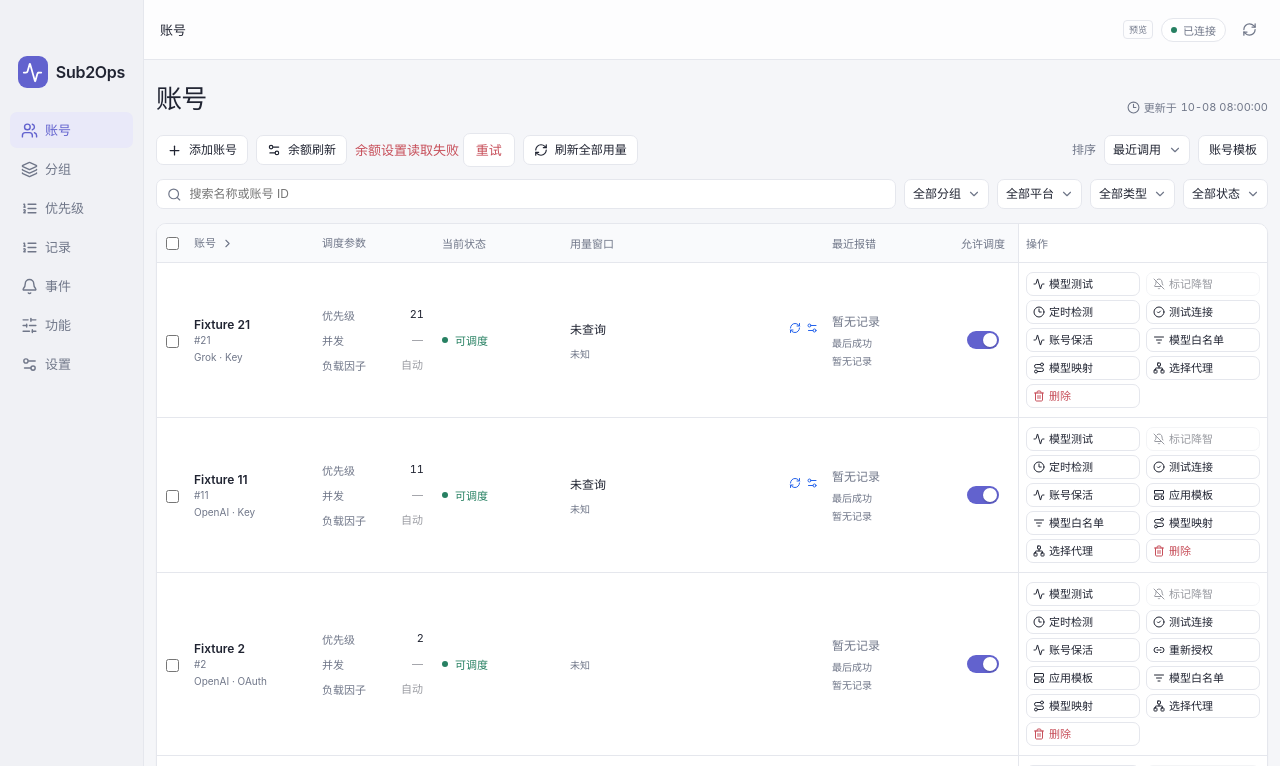
Test: feature settings drafts › saves mutually exclusive recovery modes together without changing the automatic card-use setting
Click the button "功能": click(72, 325) [10,307,133,343]
(page scrolled)
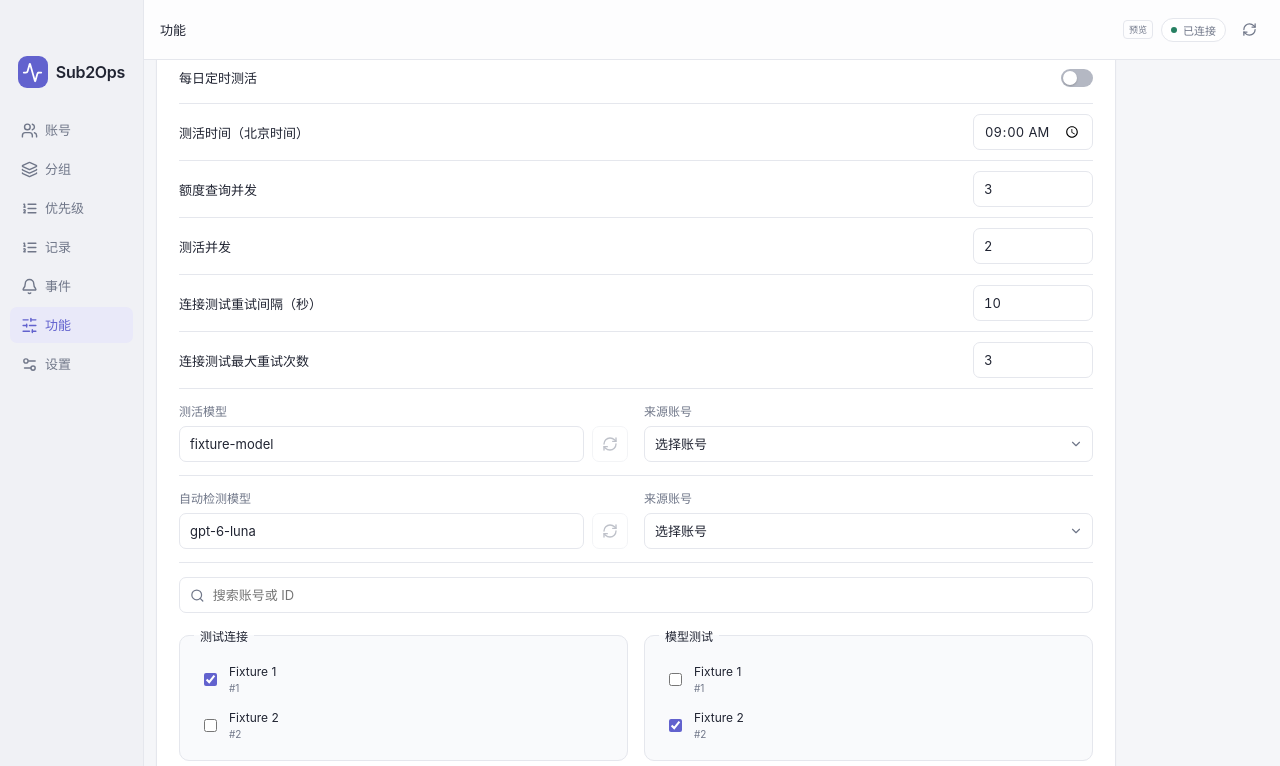
expect the checkbox labelled "Fixture 1 #1" below "测试连接" is checked: met, box [204,672,217,686]
expect the checkbox labelled "Fixture 2 #2" below "模型测试" is checked: met, box [669,718,682,732]
Click the checkbox labelled "Fixture 1 #1" below "模型测试": click(676, 679) [669,672,682,686]
(page scrolled)
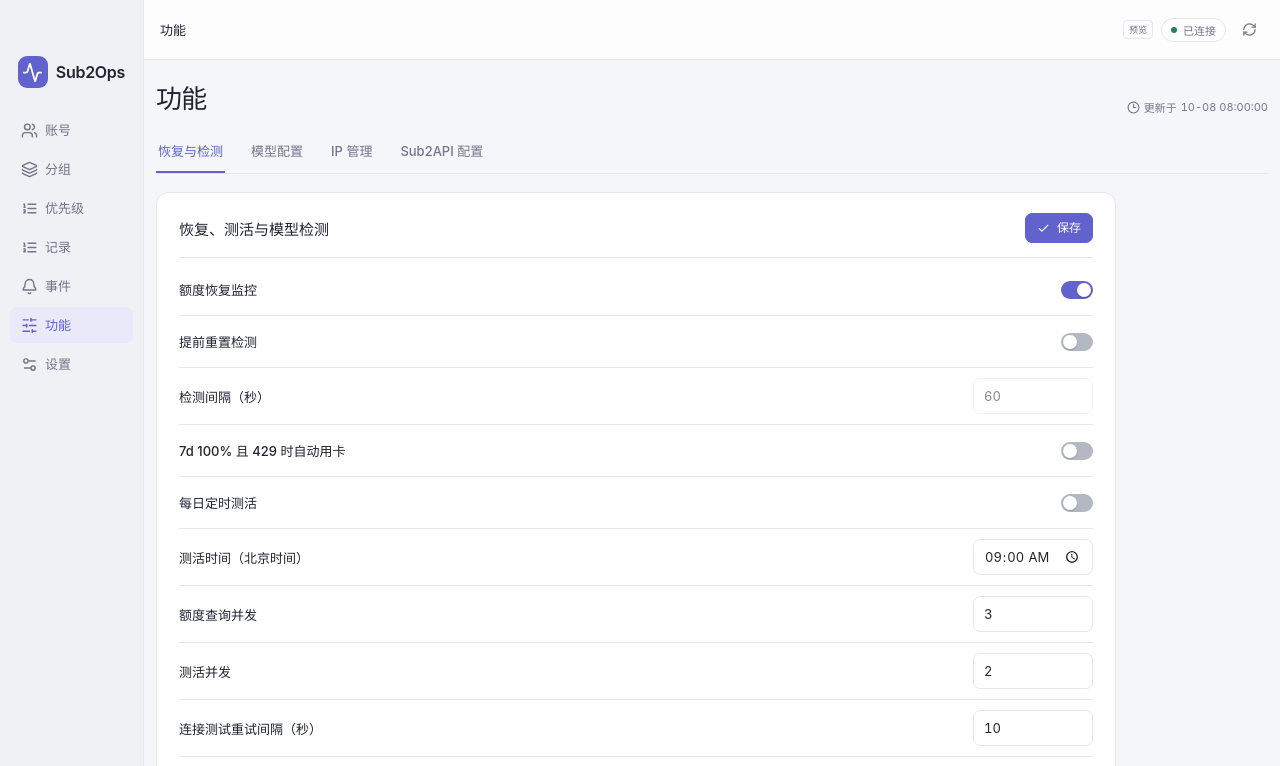
Click the button "保存": click(1059, 228) [1025,213,1093,243]
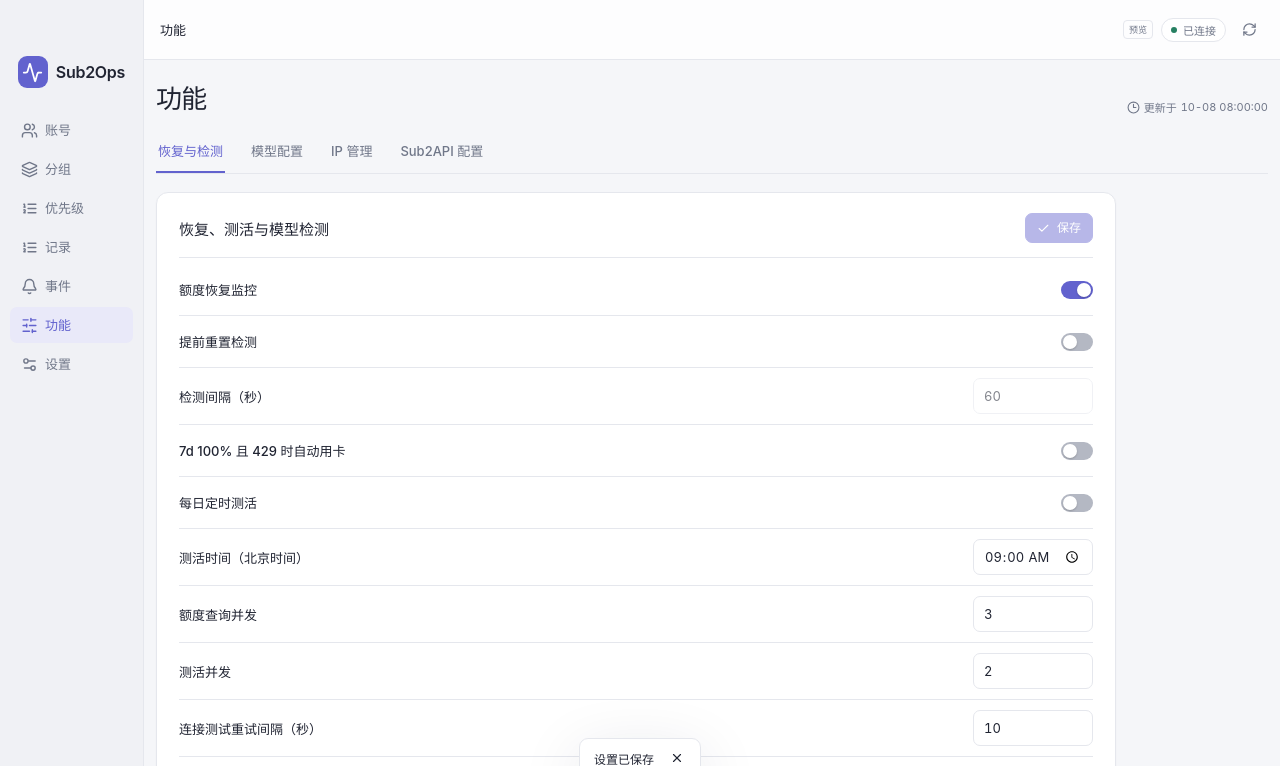
expect the button "保存" is disabled: met, box [1025,213,1093,243]
